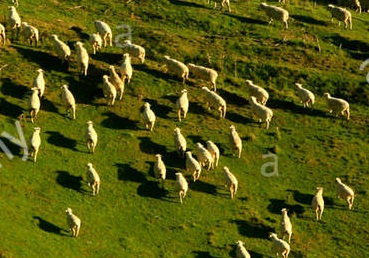sheep: (241, 78, 284, 109), (323, 92, 356, 126), (292, 79, 323, 115), (187, 59, 223, 88), (94, 72, 125, 105), (326, 2, 359, 33), (244, 93, 275, 125), (334, 174, 359, 213), (223, 123, 250, 159), (26, 125, 51, 162), (260, 1, 293, 29), (203, 85, 230, 119), (181, 149, 205, 187), (105, 63, 134, 94), (114, 52, 143, 82), (119, 38, 151, 65), (80, 163, 103, 199), (46, 32, 71, 65), (164, 53, 190, 83), (273, 206, 295, 241), (311, 185, 330, 224), (260, 232, 288, 258), (75, 39, 95, 74), (171, 125, 192, 156), (190, 141, 213, 169), (24, 17, 44, 46), (8, 3, 24, 38), (81, 120, 100, 149), (151, 151, 171, 178), (32, 67, 48, 100), (205, 139, 223, 168), (65, 207, 83, 236), (27, 87, 43, 119), (223, 168, 241, 195), (173, 171, 189, 198), (175, 90, 190, 118), (230, 237, 247, 258)
